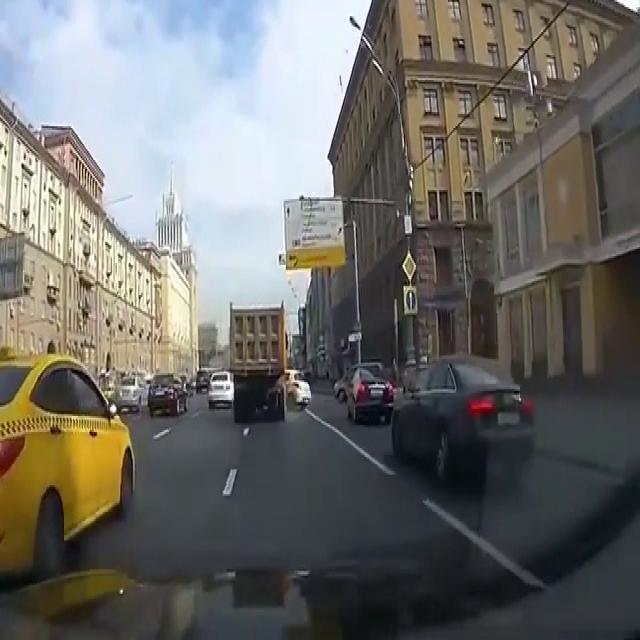accident: (225, 290, 312, 433)
